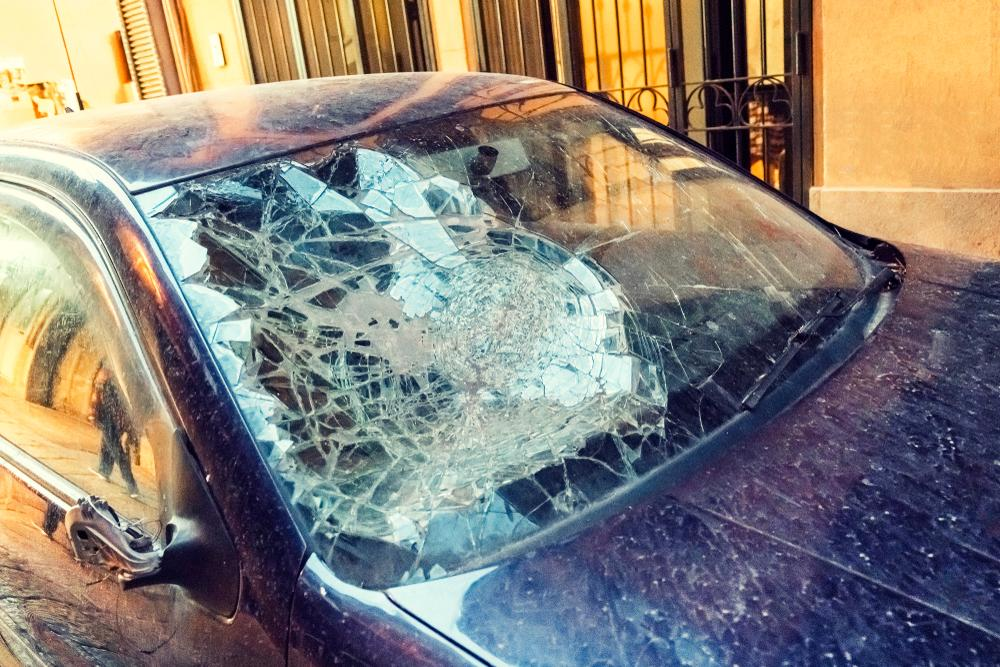glass shatter: (134, 91, 868, 590)
